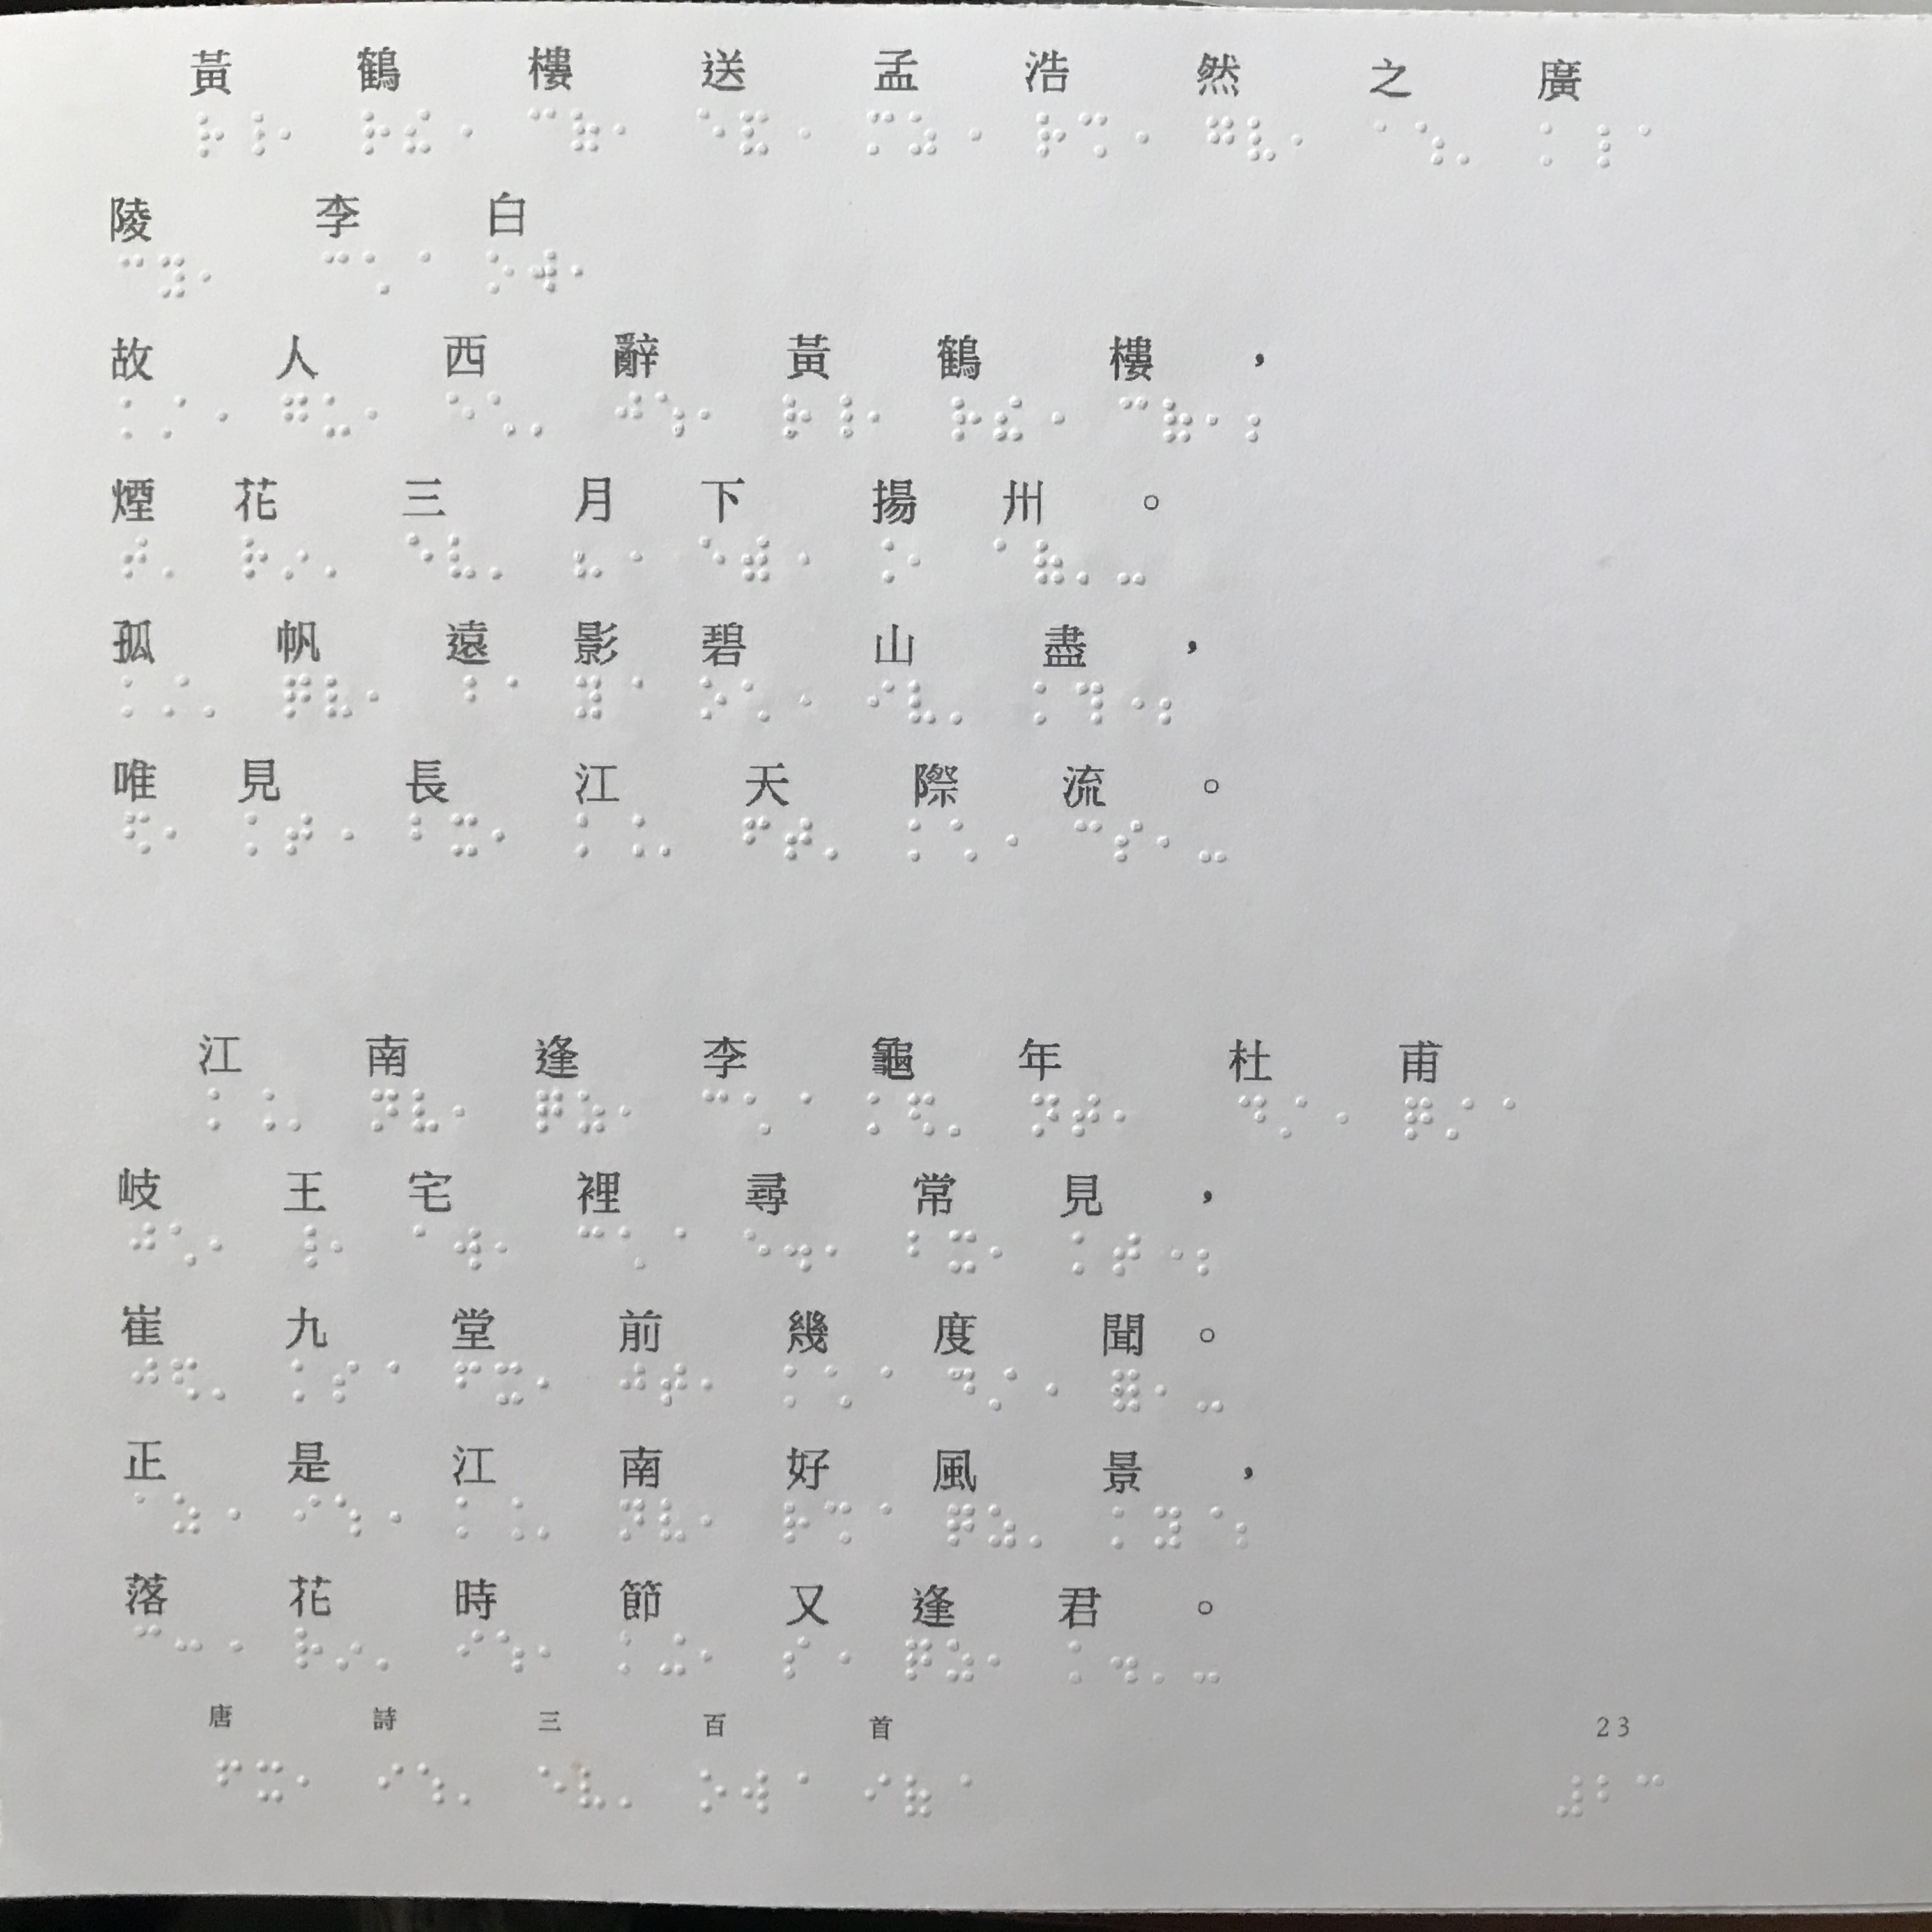Braille: (568, 669, 605, 724), (442, 527, 476, 586), (1247, 106, 1279, 166), (904, 106, 938, 163), (950, 106, 984, 163), (660, 1359, 695, 1412), (1033, 108, 1065, 166), (1403, 1088, 1435, 1146), (570, 101, 603, 156), (1115, 534, 1148, 589), (863, 674, 897, 729), (1157, 674, 1191, 729), (1070, 812, 1104, 867), (782, 1223, 816, 1277), (1069, 1223, 1102, 1277), (904, 678, 941, 727), (359, 103, 391, 159), (405, 103, 437, 159), (740, 104, 771, 161), (994, 391, 1026, 448), (1074, 674, 1106, 731), (1198, 810, 1230, 867), (575, 1085, 607, 1141), (529, 241, 559, 299), (405, 527, 435, 586), (173, 1350, 203, 1408), (695, 103, 727, 157), (1415, 119, 1447, 173), (320, 387, 352, 442), (658, 391, 690, 446), (1035, 536, 1067, 591), (534, 1085, 566, 1139), (122, 807, 156, 858), (1237, 1090, 1270, 1141), (616, 1223, 649, 1274), (947, 1226, 980, 1277), (1081, 108, 1111, 165), (364, 386, 393, 446), (446, 389, 476, 446), (1111, 1223, 1141, 1279), (740, 672, 771, 725), (948, 814, 982, 863), (198, 104, 226, 163), (867, 101, 895, 159), (196, 248, 225, 306), (1207, 108, 1237, 163), (1537, 115, 1568, 170), (784, 389, 814, 444), (784, 674, 814, 729), (1113, 812, 1143, 867), (410, 1085, 441, 1139), (527, 103, 559, 154), (614, 387, 646, 439), (950, 396, 982, 448), (280, 531, 311, 582), (741, 534, 773, 586), (867, 534, 899, 586), (324, 669, 356, 720), (1072, 1088, 1104, 1139), (287, 1221, 318, 1272), (1196, 1226, 1228, 1277), (495, 1359, 527, 1410), (1026, 1090, 1060, 1138), (1152, 1502, 1185, 1550), (782, 104, 810, 161), (1585, 119, 1615, 172), (320, 246, 350, 299), (483, 246, 513, 299), (281, 389, 311, 442), (485, 389, 515, 442), (1164, 393, 1194, 446), (120, 527, 150, 580), (616, 810, 646, 863), (740, 812, 770, 865), (784, 812, 814, 865), (701, 1086, 731, 1139), (331, 1355, 361, 1408), (575, 810, 607, 860), (823, 814, 855, 863), (575, 1223, 607, 1272), (239, 104, 267, 159), (280, 104, 308, 159), (157, 251, 186, 306), (129, 1215, 157, 1270), (621, 1357, 649, 1412), (612, 99, 639, 157), (402, 246, 428, 304), (416, 1759, 449, 1805), (1454, 120, 1484, 172), (529, 391, 559, 442), (488, 529, 518, 580), (575, 531, 605, 582), (699, 534, 729, 586), (993, 536, 1023, 587), (287, 807, 317, 858), (205, 1081, 235, 1132), (1283, 1090, 1313, 1141), (1447, 1092, 1477, 1143), (372, 1353, 402, 1405), (987, 1500, 1017, 1552), (248, 1086, 280, 1134), (701, 1362, 732, 1410), (119, 248, 145, 304), (122, 391, 150, 444), (161, 389, 189, 442), (826, 391, 855, 444), (163, 529, 191, 582), (324, 531, 352, 584), (449, 667, 478, 720), (993, 810, 1021, 863), (372, 1083, 400, 1136), (451, 1085, 479, 1138), (743, 1223, 771, 1276), (699, 672, 729, 722), (455, 1223, 485, 1272), (455, 1359, 485, 1408), (947, 1362, 977, 1412), (943, 1502, 975, 1548), (363, 246, 389, 301), (203, 391, 230, 446), (1037, 391, 1063, 446), (616, 1085, 642, 1139), (1290, 113, 1318, 165), (1369, 117, 1398, 168), (699, 389, 727, 441), (1122, 395, 1150, 446), (616, 531, 644, 582), (364, 667, 393, 718), (745, 1088, 773, 1139), (1113, 1090, 1141, 1141), (168, 1219, 196, 1270), (412, 1221, 441, 1272), (906, 1633, 934, 1684), (1111, 1633, 1139, 1684), (1249, 398, 1279, 446), (908, 536, 938, 584), (290, 1086, 320, 1134), (908, 1226, 938, 1274), (1111, 1369, 1141, 1417), (333, 1495, 363, 1543), (294, 1624, 324, 1672), (945, 1637, 975, 1684), (1555, 1775, 1585, 1822), (287, 669, 313, 722), (1155, 1224, 1182, 1277), (1125, 108, 1150, 165), (952, 676, 980, 725), (449, 810, 478, 860), (1157, 810, 1182, 867), (908, 1090, 936, 1139), (1323, 1093, 1352, 1143), (211, 1223, 239, 1272), (824, 1362, 853, 1412), (826, 1497, 855, 1546), (655, 812, 685, 858), (1118, 676, 1145, 727), (166, 805, 193, 856), (327, 807, 354, 858), (492, 807, 518, 858), (786, 1086, 812, 1138), (1490, 1092, 1516, 1143), (134, 1353, 161, 1405), (449, 104, 474, 159), (573, 244, 598, 299), (244, 527, 269, 582), (1205, 398, 1233, 446), (1035, 678, 1063, 725), (327, 1223, 356, 1270), (660, 1223, 688, 1270), (989, 1230, 1017, 1277), (865, 1362, 893, 1410), (658, 1497, 686, 1545), (823, 1633, 851, 1681), (743, 1769, 771, 1817), (163, 674, 193, 718), (1196, 1371, 1226, 1415), (867, 393, 893, 442), (1077, 538, 1104, 587), (488, 671, 515, 720), (619, 674, 646, 724), (409, 807, 435, 856), (867, 1090, 895, 1136), (214, 1357, 242, 1403), (1030, 1366, 1058, 1412), (1196, 1502, 1224, 1548), (1194, 1638, 1223, 1684), (1152, 1633, 1177, 1684), (784, 536, 810, 584), (122, 671, 149, 718), (242, 810, 269, 858), (826, 1224, 853, 1272), (786, 1362, 812, 1410), (989, 1364, 1016, 1412), (173, 1490, 200, 1537), (1028, 1502, 1054, 1550), (784, 1633, 810, 1681), (1599, 1771, 1626, 1819), (495, 1221, 518, 1276), (294, 1493, 322, 1537), (863, 1497, 892, 1541), (216, 1755, 244, 1799), (701, 1769, 729, 1813), (338, 1624, 363, 1674), (292, 1357, 318, 1403), (536, 1362, 563, 1408), (1152, 1366, 1178, 1412), (455, 1495, 481, 1541), (621, 1495, 648, 1541), (497, 1629, 524, 1675), (660, 1631, 686, 1677), (538, 1764, 564, 1810), (579, 1766, 605, 1812), (1638, 1773, 1665, 1819), (985, 1638, 1014, 1681), (255, 1760, 283, 1803), (1626, 120, 1651, 168), (1237, 1504, 1261, 1552), (375, 1626, 400, 1674), (377, 1497, 403, 1541), (497, 1497, 524, 1541), (175, 1622, 202, 1667), (909, 817, 938, 858), (202, 674, 226, 720), (699, 1495, 722, 1545), (1113, 1504, 1138, 1550), (701, 1631, 725, 1677), (1070, 1638, 1095, 1684), (906, 1773, 931, 1819), (948, 1093, 975, 1136), (947, 1771, 973, 1813), (214, 1493, 239, 1537), (458, 1626, 483, 1670), (538, 1628, 561, 1674), (619, 1631, 642, 1677), (297, 1759, 320, 1805), (538, 1499, 563, 1541), (784, 1500, 809, 1543), (379, 1759, 403, 1801), (619, 1769, 644, 1812), (865, 1771, 890, 1813), (136, 1624, 163, 1663), (134, 1490, 157, 1532), (219, 1626, 242, 1667), (786, 1773, 809, 1812), (460, 1764, 481, 1805)
